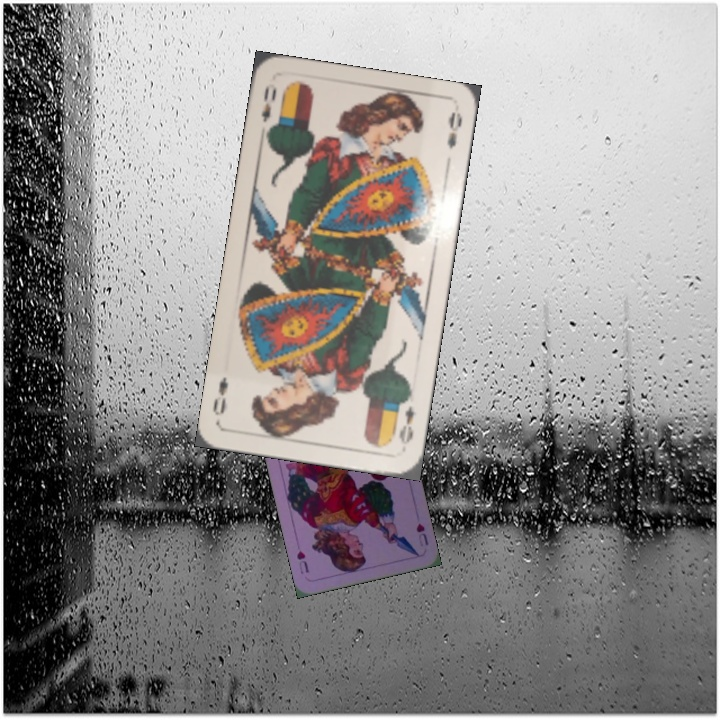EO: (395, 401, 418, 447), (257, 79, 279, 125)
HU: (412, 519, 431, 549)
